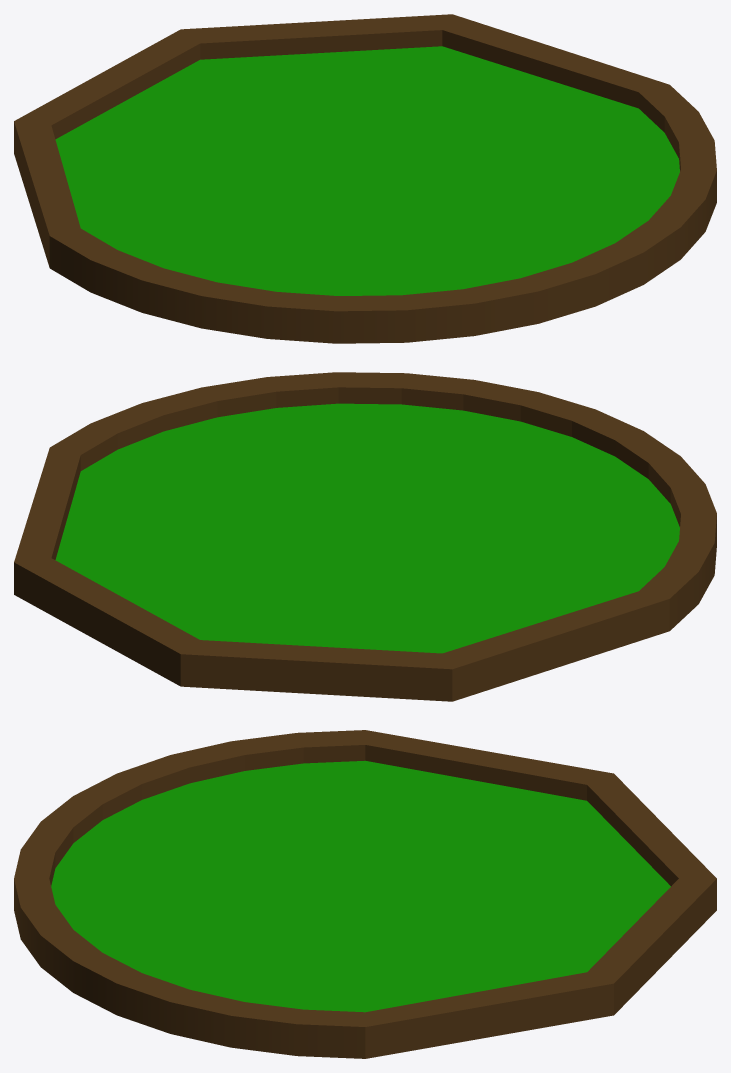
3 renders of one model, top to bottom at view 1: azimuth 30°, elevation 25°; view 2: azimuth 150°, elevation 25°; view 3: azimuth 270°, elevation 25°, orthographic.
Parts seen in each view (by area): view 1: 円柱.001; view 2: 円柱.001; view 3: 円柱.001.
Part boxes in pixels (left/top/right/bottom): 円柱.001: left=14, top=14, right=716, bottom=343; 円柱.001: left=14, top=372, right=716, bottom=701; 円柱.001: left=14, top=730, right=716, bottom=1058.
Size of the model in its own units: 2000 by 100 by 2000.
